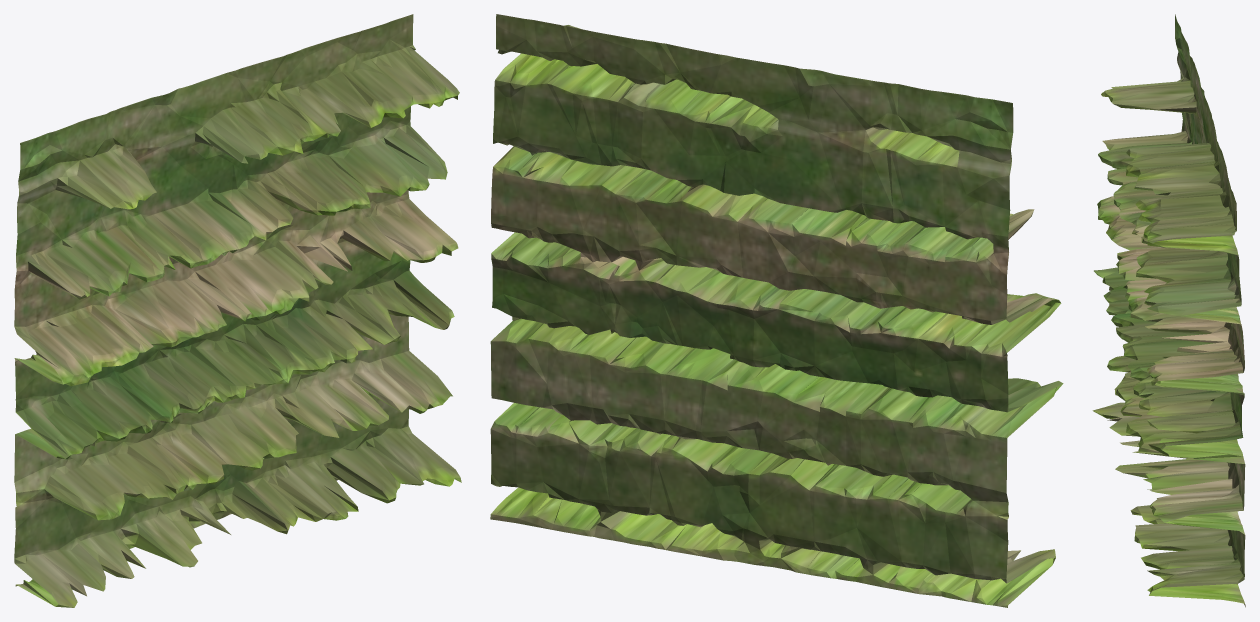
File: map_170_30.obj
3 renders of one model, left to right at view 1: azimuth 30°, elevation 25°; view 2: azimuth 150°, elevation 25°; view 3: azimuth 270°, elevation 25°, orthographic. The views are drawn at different scales.
Visible parts, largest first — view 1: grp1; view 2: grp1; view 3: grp1.
Part boxes in pixels (<box>): grp1: <box>14,14,461,607</box>; grp1: <box>490,14,1063,607</box>; grp1: <box>1092,14,1245,607</box>.
Size of the model in its own units: 10 by 10 by 3.44.
Materials: 1 (1 with a texture image).
